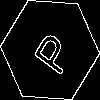P: (25, 25, 76, 78)
